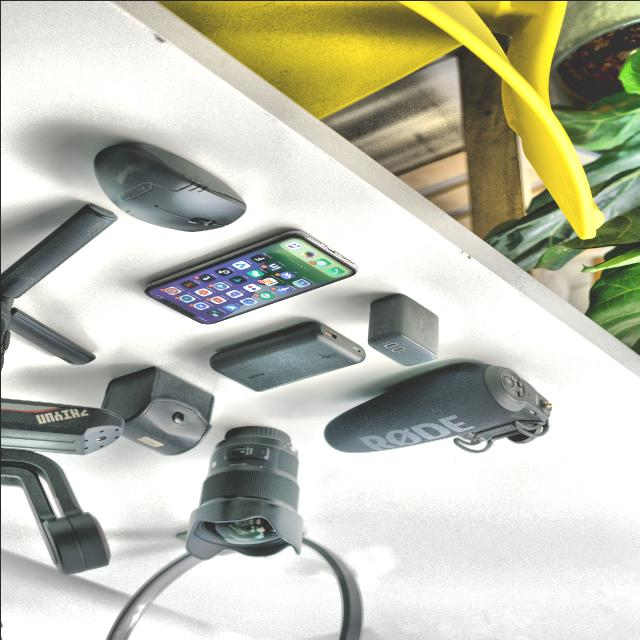MOUSE: (93, 143, 245, 231)
PHONE: (144, 230, 355, 324)
Power bank: (209, 321, 364, 391)
